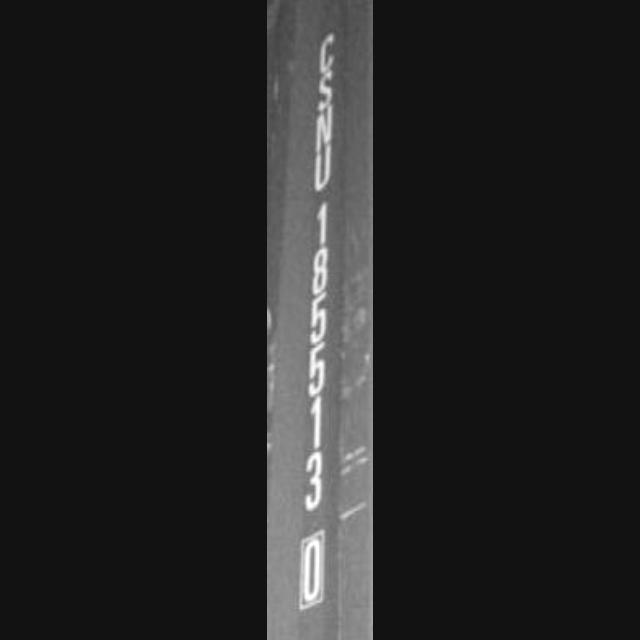0: (294, 524, 334, 610)
1: (300, 198, 352, 256), (298, 398, 334, 452)
3: (292, 447, 334, 518)
5: (295, 338, 335, 399), (299, 287, 337, 347)
8: (302, 240, 344, 302)
c: (310, 27, 342, 77)
n: (307, 109, 345, 150)
s: (308, 73, 344, 111)
u: (302, 145, 350, 193)
